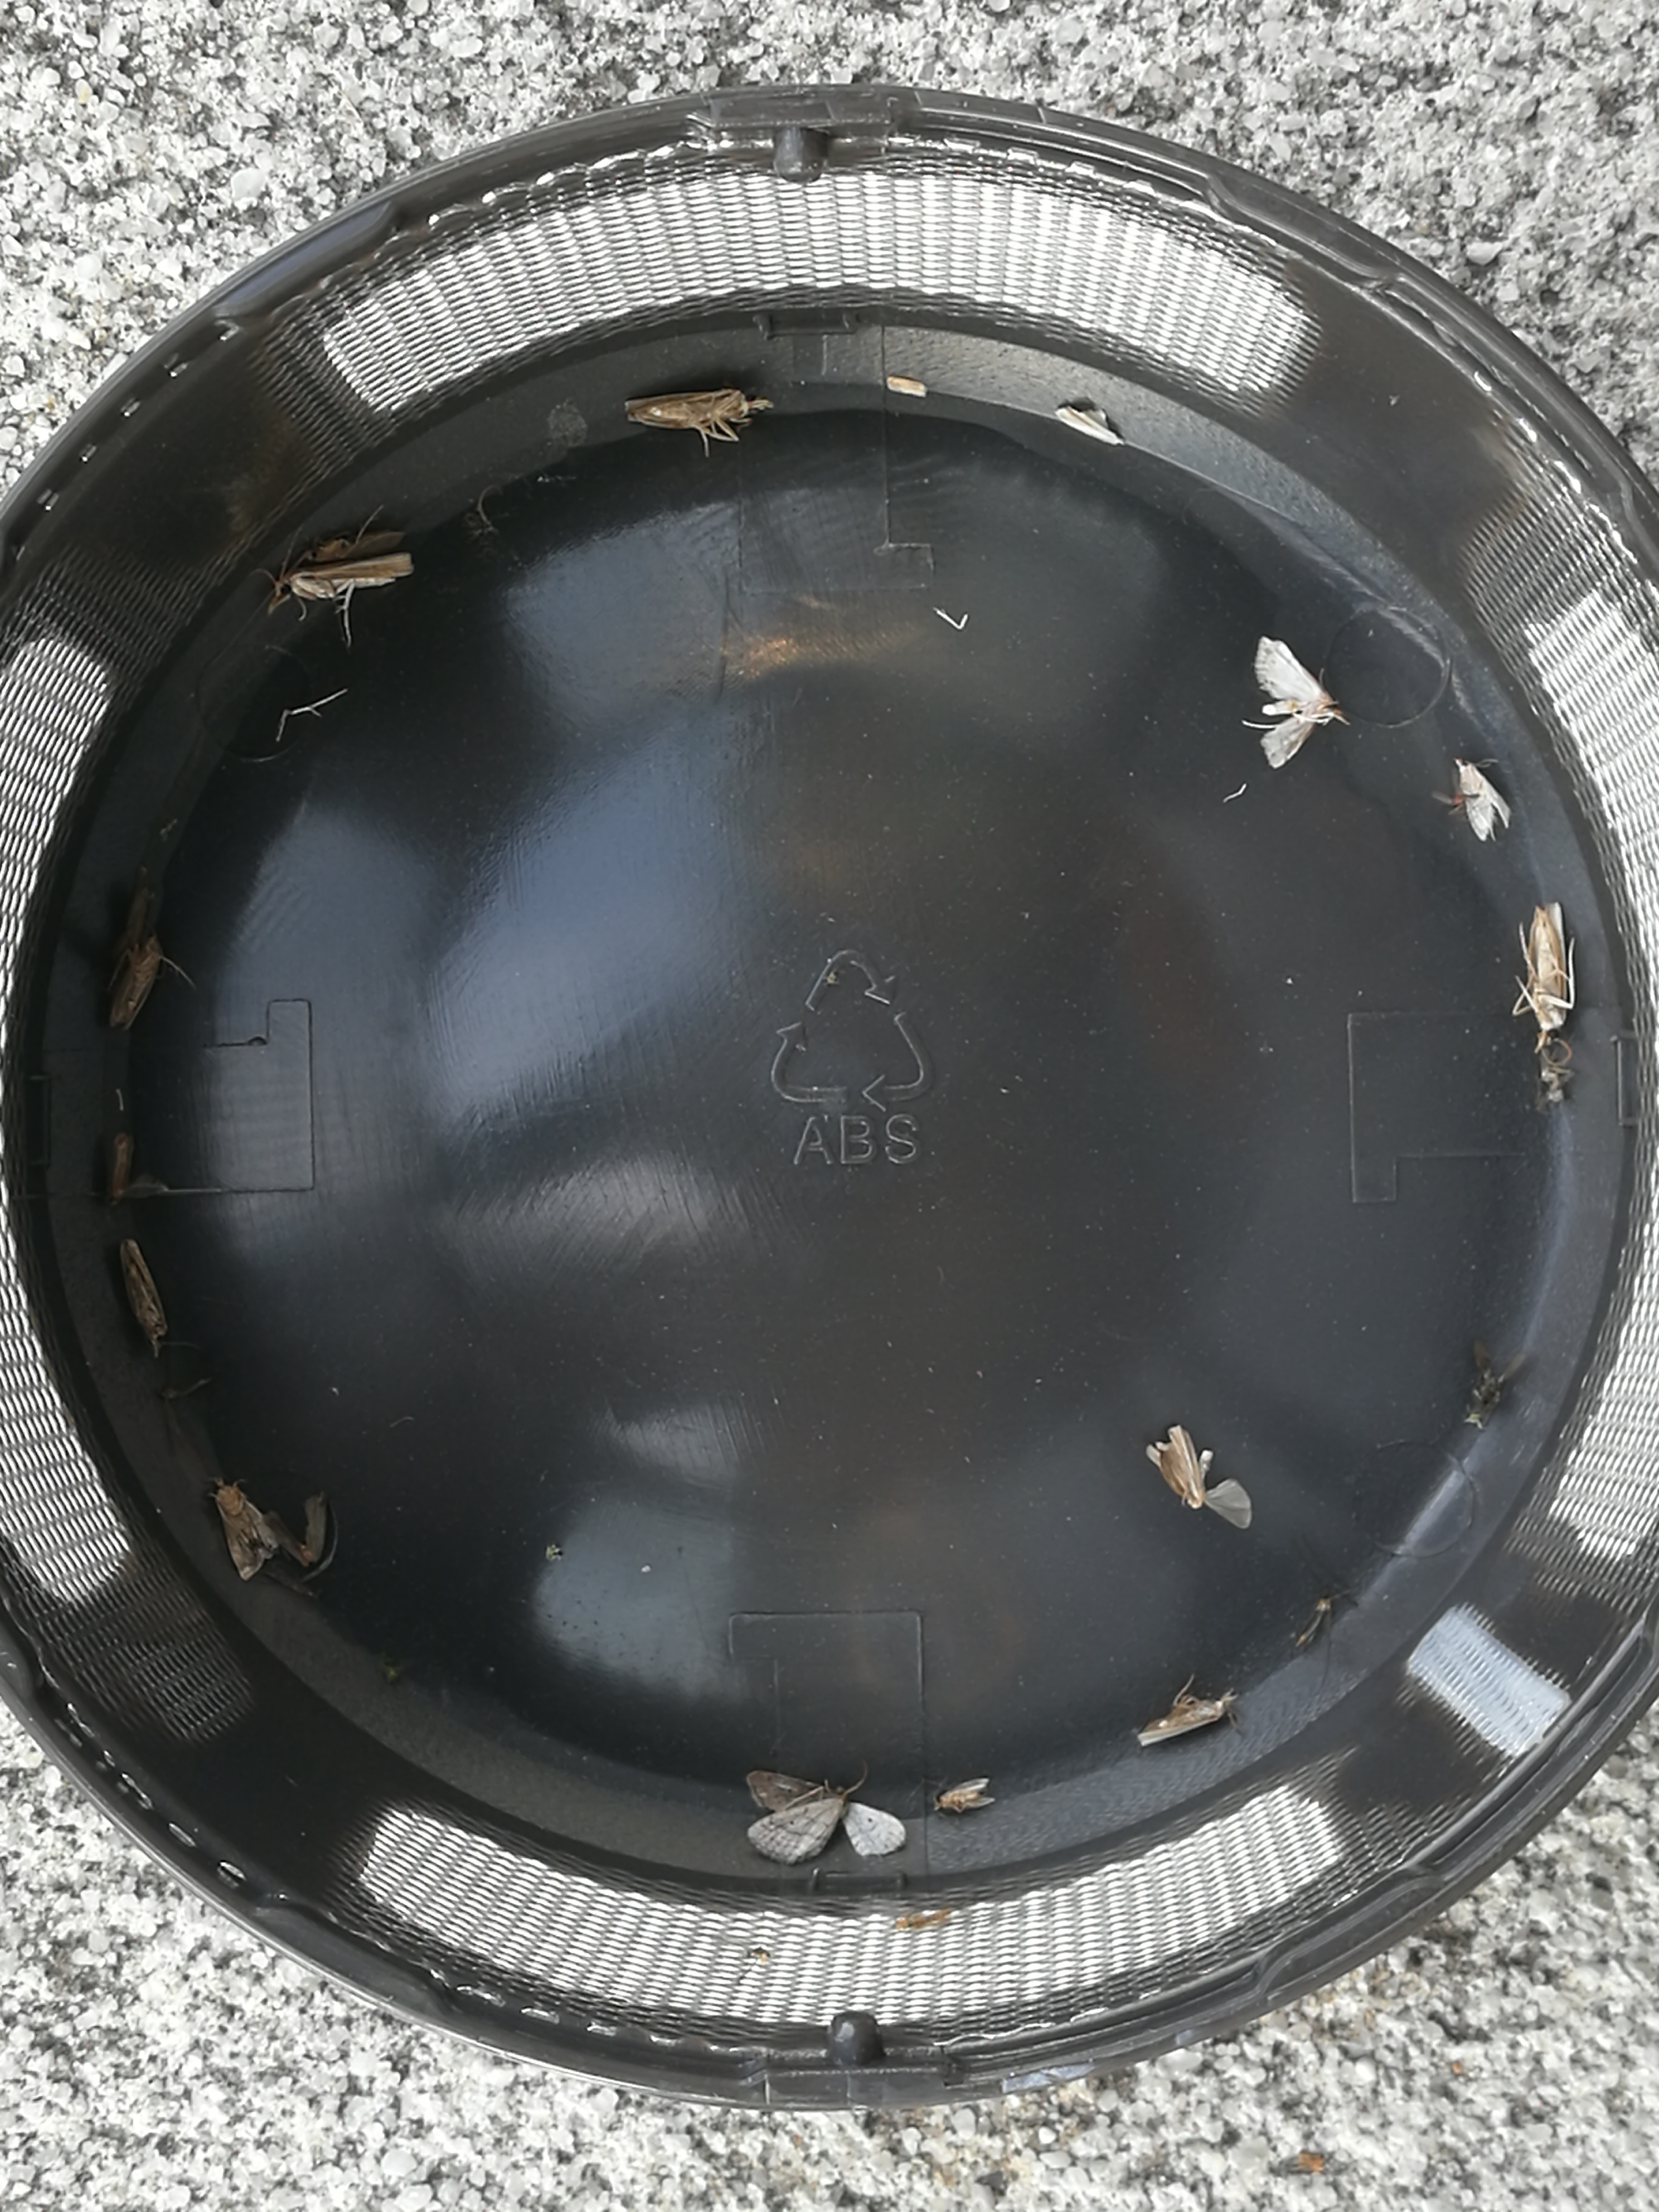mosquito: (277, 554, 415, 601), (110, 930, 160, 1029), (1530, 902, 1567, 1031), (124, 1238, 166, 1343), (626, 394, 746, 428), (1136, 1700, 1225, 1743), (305, 533, 403, 563), (105, 1132, 136, 1204), (934, 1777, 993, 1808), (122, 885, 152, 948)
moth: (749, 1773, 906, 1860), (1145, 1426, 1251, 1527), (1255, 637, 1333, 766), (214, 1482, 279, 1578), (1453, 756, 1509, 841)
